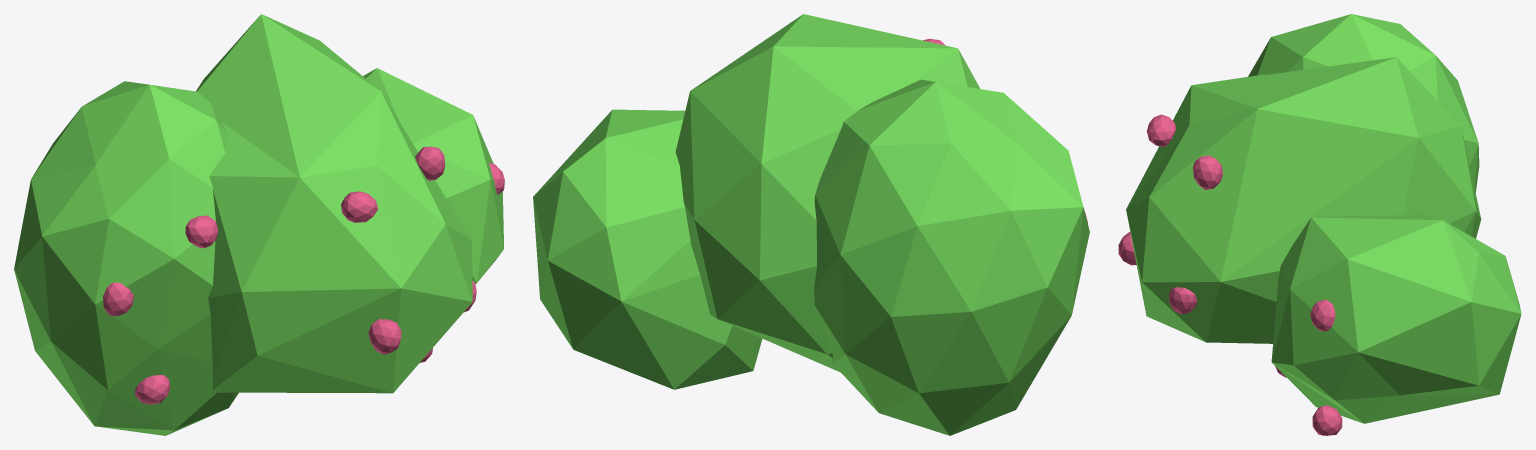
The model's file is bush1.fbx.
3 views of the same model, side by side, from view 1: azimuth 30°, elevation 25°; view 2: azimuth 150°, elevation 25°; view 3: azimuth 270°, elevation 25° (orthographic). The views are drawn at different scales.
Visible parts, largest first — view 1: Icosphere.003; view 2: Icosphere.003; view 3: Icosphere.003.
Boxes of the visible parts, box(x1,y1,x2,y2) form: Icosphere.003: box(14, 14, 504, 435); Icosphere.003: box(533, 14, 1089, 435); Icosphere.003: box(1118, 14, 1521, 435).
Size of the model in its own units: 163 by 119 by 127.
